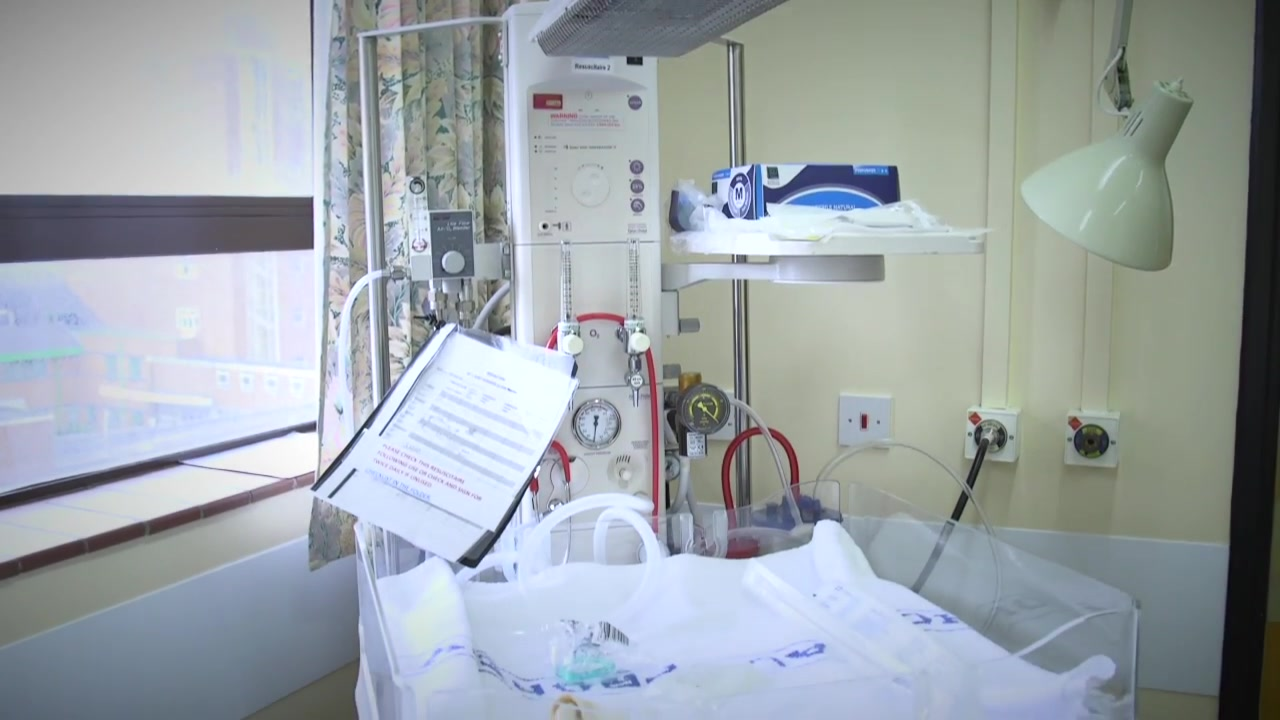breathing_tube: (464, 491, 660, 605)
curtain: (308, 1, 509, 572)
panda_baby_warmer: (352, 1, 1119, 720)
